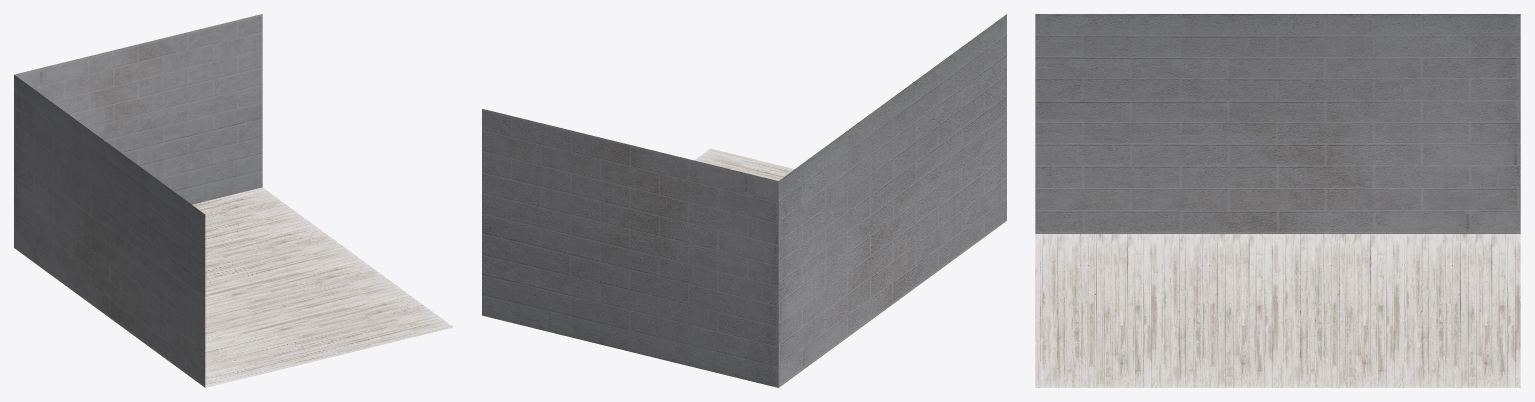
Rendered from wall.glb.
The picture shows the model from 3 angles, left to right: view 1: azimuth 30°, elevation 25°; view 2: azimuth 150°, elevation 25°; view 3: azimuth 270°, elevation 25°; orthographic projection. The views are drawn at different scales.
Parts seen in each view (by area): view 1: Plane.001, Plane, Plane.002; view 2: Plane.002, Plane.001, Plane; view 3: Plane.001, Plane.
Boxes of the visible parts, bbox=[...] form: Plane.001: bbox=[14, 75, 205, 387]; Plane: bbox=[192, 187, 453, 387]; Plane.002: bbox=[14, 14, 262, 204]; Plane.002: bbox=[482, 109, 778, 387]; Plane.001: bbox=[778, 14, 1006, 387]; Plane: bbox=[694, 148, 794, 180]; Plane.001: bbox=[1035, 14, 1520, 233]; Plane: bbox=[1035, 234, 1520, 387].
Bounding box in the file's own units: 12 × 8 × 16.
Materials: 3 (3 with a texture image).
